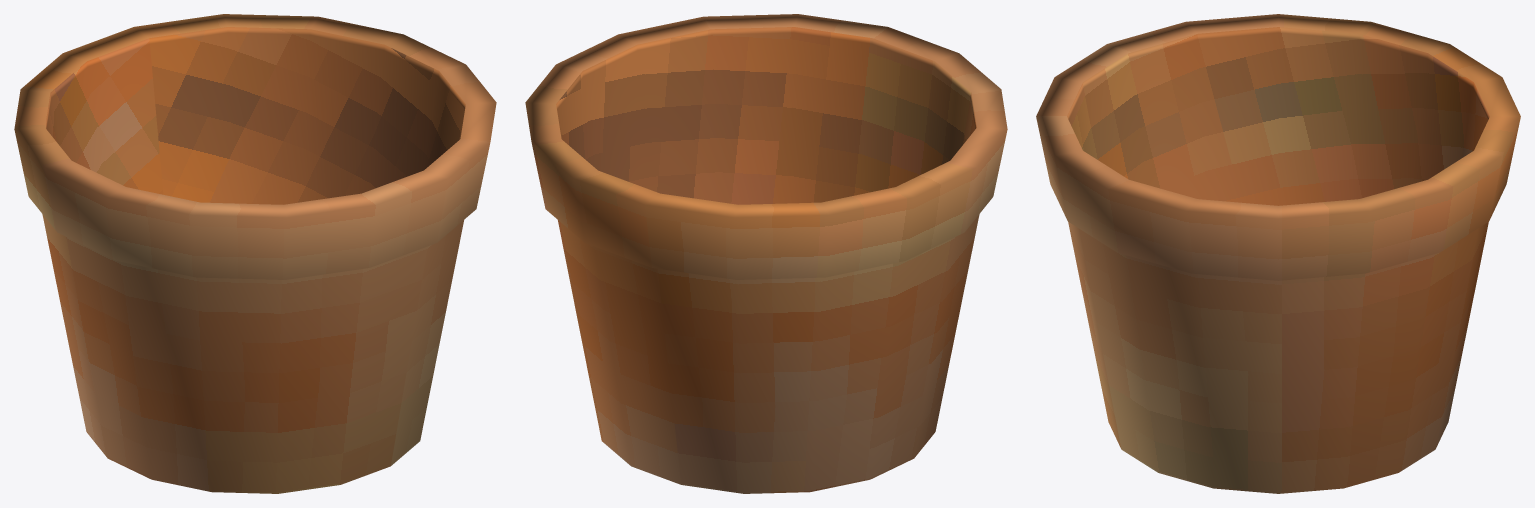
Rendered from objects_un_t01flowerpots04.gltf.
The picture shows the model from 3 angles, left to right: view 1: azimuth 30°, elevation 25°; view 2: azimuth 150°, elevation 25°; view 3: azimuth 270°, elevation 25°; orthographic projection.
Visible parts, largest first — view 1: objects_un_t01flowerpots04_mesh_shape:objects_un_t01flowerpo; view 2: objects_un_t01flowerpots04_mesh_shape:objects_un_t01flowerpo; view 3: objects_un_t01flowerpots04_mesh_shape:objects_un_t01flowerpo.
Part boxes in pixels (box(x1,y1,x2,y2)): objects_un_t01flowerpots04_mesh_shape:objects_un_t01flowerpo: box(14, 14, 496, 493); objects_un_t01flowerpots04_mesh_shape:objects_un_t01flowerpo: box(525, 14, 1007, 493); objects_un_t01flowerpots04_mesh_shape:objects_un_t01flowerpo: box(1036, 14, 1520, 493).
Size of what is drawn, in the model's own units: 0.4926 by 0.3426 by 0.4926.
1 material, 1 textured.
